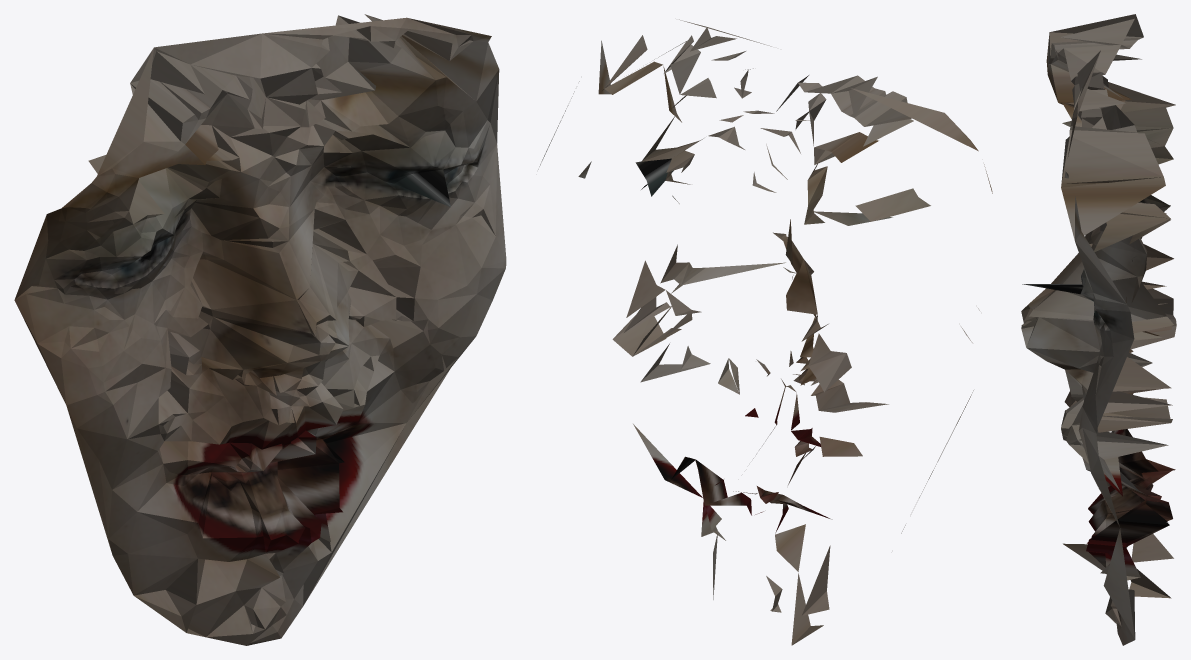
File: original_output.glb
The picture shows the model from 3 angles, left to right: view 1: azimuth 30°, elevation 25°; view 2: azimuth 150°, elevation 25°; view 3: azimuth 270°, elevation 25°; orthographic projection. The views are drawn at different scales.
Visible parts, largest first — view 1: world; view 2: world; view 3: world.
Part boxes in pixels (x1=…): world: x1=14, y1=14, x2=506, y2=645; world: x1=538, y1=19, x2=992, y2=645; world: x1=1021, y1=14, x2=1176, y2=645.
Size of the model in its own units: 0.1301 by 0.1593 by 0.0386.
Materials: 1 (1 with a texture image).
